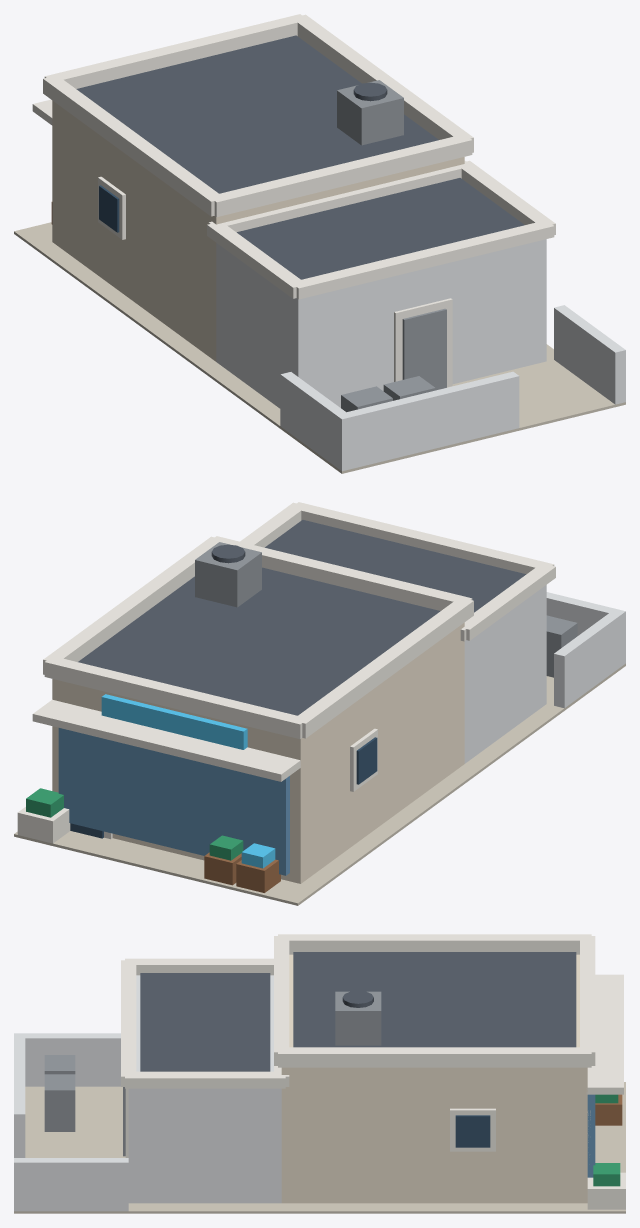
3 views of the same model, one above another, from view 1: azimuth 30°, elevation 25°; view 2: azimuth 150°, elevation 25°; view 3: azimuth 270°, elevation 25° (orthographic). The views are drawn at different scales.
Parts seen in each view (by area): view 1: roof (×2), stockroom, parapet (×8), shop, yard_wall (×3), ground, garage_door, ac_unit_body, bin (×2), garage_door_frame, window_glass, window_frame; view 2: roof (×2), parapet (×7), shop, storefront, ground, stockroom, canopy, yard_wall (×2), sign, ac_unit_body, crate (×2), planter (+5 smaller); view 3: shop, roof (×2), parapet (×7), stockroom, ground, yard_wall (×3), canopy, bin (×2), ac_unit_body, window_glass, planter, window_frame (+4 smaller).
Boxes of the visible parts, left/top/right/bottom form: roof (×2): left=76, top=35, right=524, bottom=279; stockroom: left=216, top=239, right=546, bottom=408; parapet (×8): left=43, top=14, right=555, bottom=299; shop: left=52, top=100, right=464, bottom=361; yard_wall (×3): left=280, top=305, right=625, bottom=471; ground: left=14, top=222, right=625, bottom=473; garage_door: left=402, top=308, right=446, bottom=390; ac_unit_body: left=337, top=80, right=403, bottom=145; bin (×2): left=341, top=376, right=435, bottom=412; garage_door_frame: left=394, top=298, right=452, bottom=387; window_glass: left=99, top=185, right=119, bottom=232; window_frame: left=98, top=176, right=125, bottom=239; roof (×2): left=78, top=520, right=525, bottom=715; parapet (×7): left=43, top=502, right=555, bottom=738; shop: left=52, top=622, right=464, bottom=883; storefront: left=58, top=728, right=289, bottom=875; ground: left=14, top=663, right=625, bottom=905; stockroom: left=464, top=585, right=546, bottom=763; canopy: left=32, top=699, right=300, bottom=781; yard_wall (×2): left=546, top=592, right=625, bottom=708; sign: left=101, top=694, right=247, bottom=749; ac_unit_body: left=195, top=542, right=261, bottom=607; crate (×2): left=204, top=852, right=280, bottom=892; planter: left=17, top=807, right=70, bottom=843; shop: left=281, top=954, right=587, bottom=1203; roof (×2): left=140, top=952, right=576, bottom=1071; parapet (×7): left=121, top=934, right=595, bottom=1088; stockroom: left=128, top=975, right=281, bottom=1203; ground: left=14, top=1082, right=625, bottom=1213; yard_wall (×3): left=14, top=1033, right=128, bottom=1211; canopy: left=586, top=974, right=623, bottom=1094; bin (×2): left=44, top=1055, right=75, bottom=1131; ac_unit_body: left=335, top=991, right=381, bottom=1045; window_glass: left=455, top=1115, right=490, bottom=1147; planter: left=587, top=1172, right=625, bottom=1209; window_frame: left=450, top=1108, right=495, bottom=1151.
Size of the model in its own units: 8 by 5.31 by 16.
